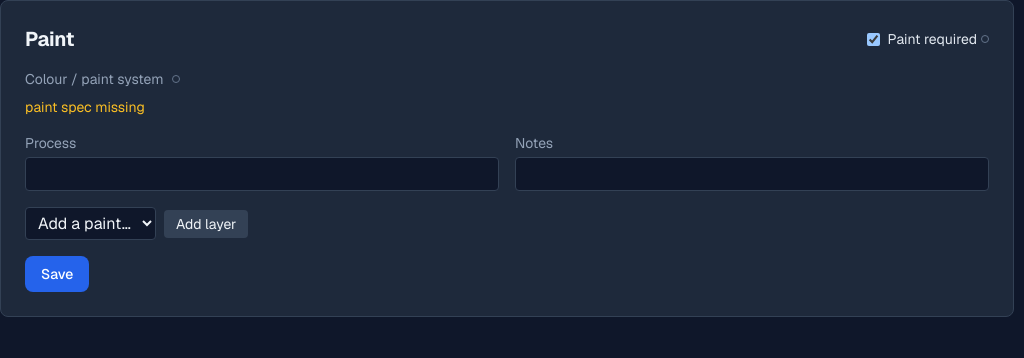
Test case: PartPaintCard › adds a layer from the picker
The image size is (1024, 358).
Expected: the checkbox with test id "paint-required-toggle" is shown, [867,32,880,46]
Select "Paint 2" in the dropdown with test id "paint-picker" at point(90, 224), box [25,207,156,240]
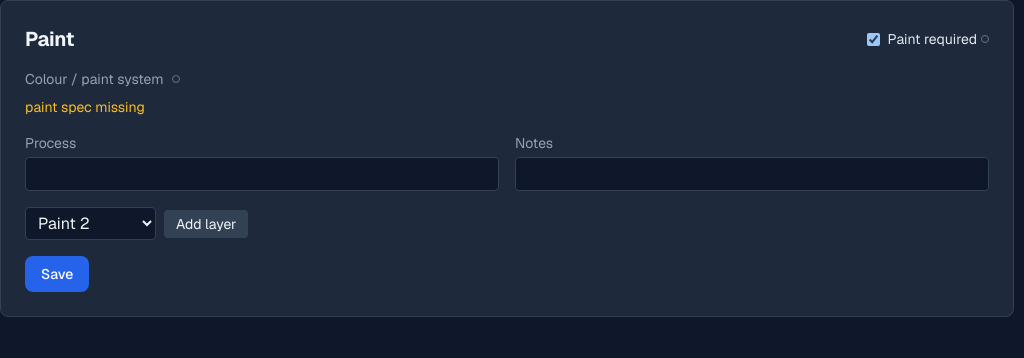
Click the button with test id "add-layer-button".
click(206, 224)  # box [164,210,248,238]
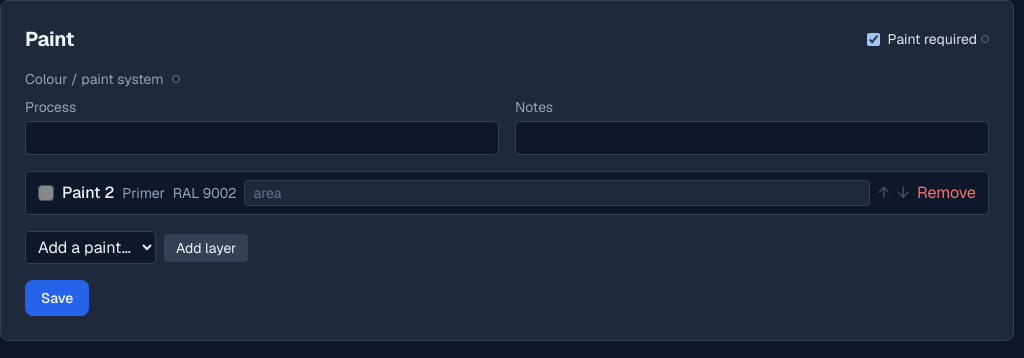
Result: the element with test id "paint-layer-0" shows "Paint 2" at [62,182,114,203]
